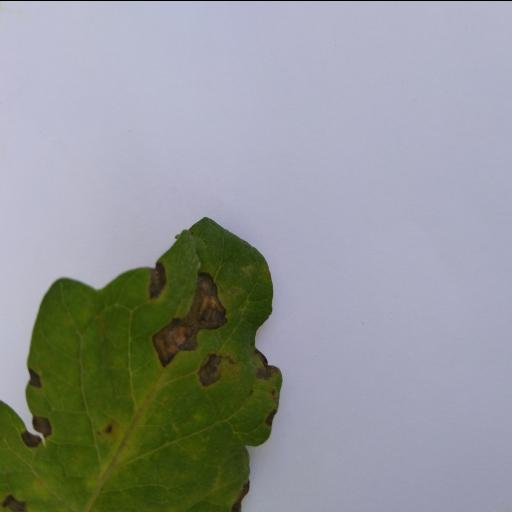Early Blight: (0, 214, 282, 512)
